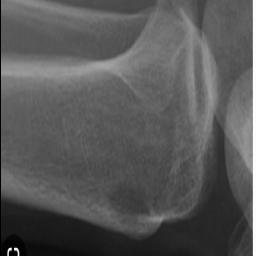cancer: (97, 180, 162, 246)
